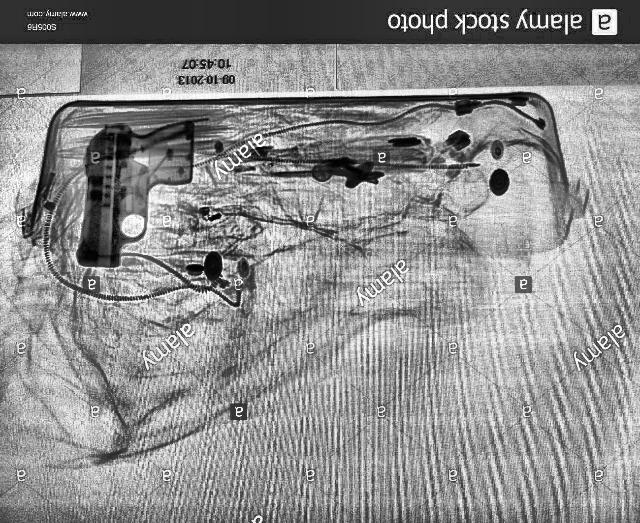Gun: (76, 118, 198, 272)
